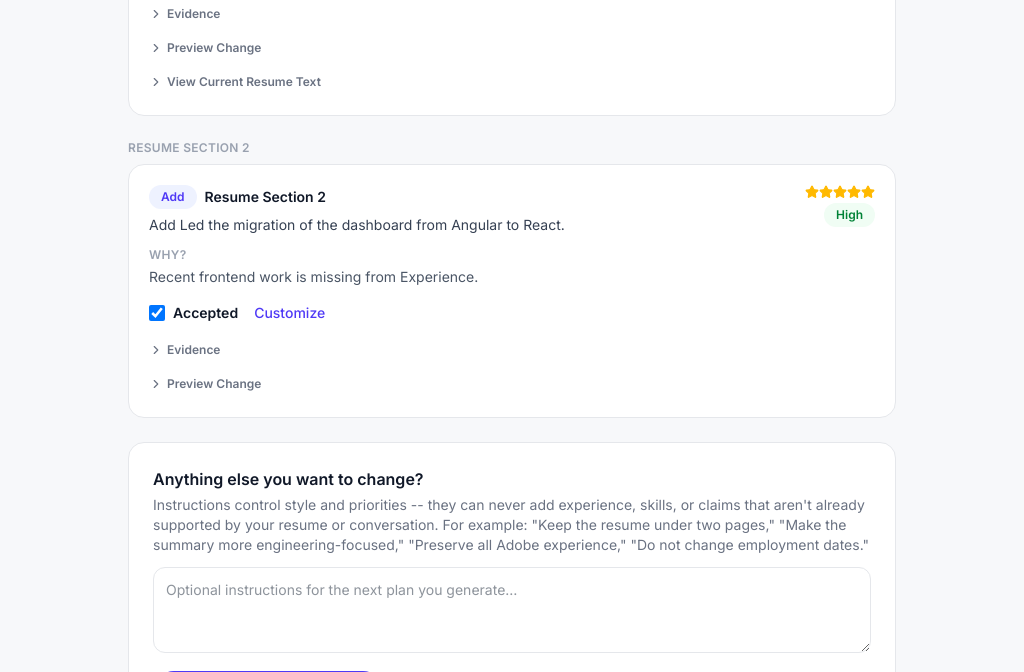
TailoredResumePage: reviewing and selecting suggestions › shows the suggested text only after Preview Change is clicked, for an insertion operation
(page scrolled)
Click the 2nd button "Preview Change": (205, 384) 149,376 -> 261,392
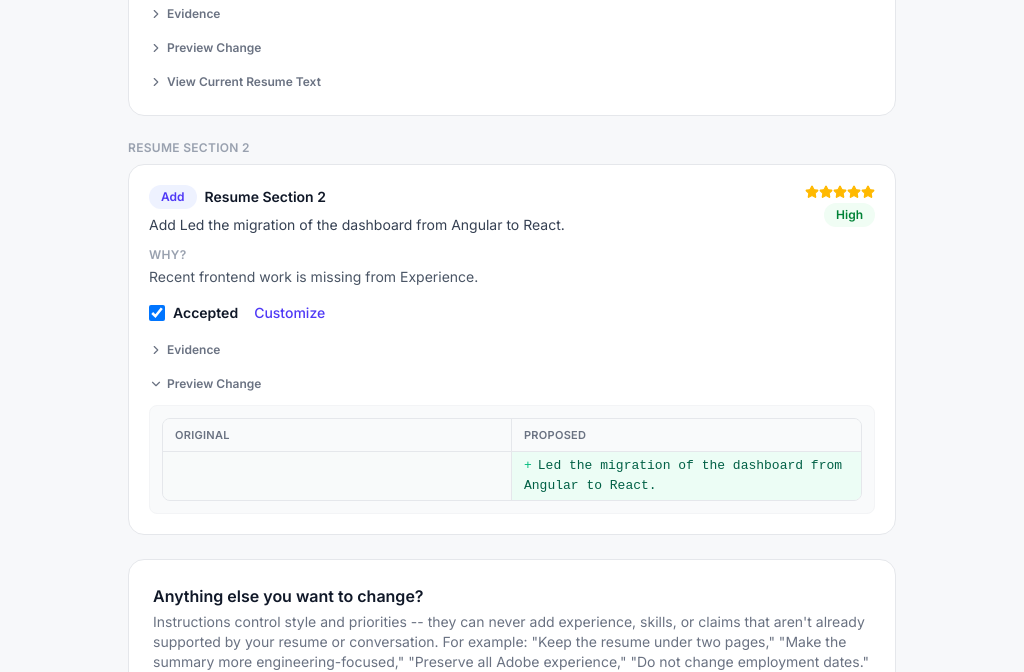
Result: the text "Led the migration of the dashboard from Angular to React." is shown at 524,458 -> 842,493
